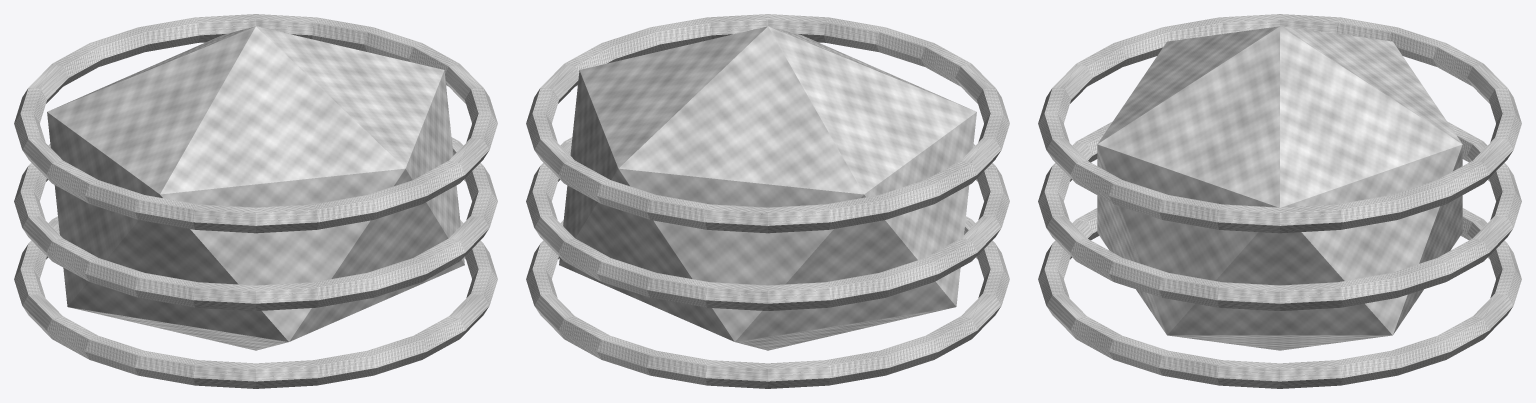
File: item-aluminum-scrap_variant_c.glb
3 renders of one model, left to right at view 1: azimuth 30°, elevation 25°; view 2: azimuth 150°, elevation 25°; view 3: azimuth 270°, elevation 25°, orthographic.
Parts seen in each view (by area): view 1: Material chunk.002, Variant collar.002, Variant collar.001, Variant collar; view 2: Material chunk.002, Variant collar.002, Variant collar.001, Variant collar; view 3: Material chunk.002, Variant collar.002, Variant collar.001, Variant collar.
Boxes of the visible parts, <box> form: Material chunk.002: <box>47,26,464,350</box>; Variant collar.002: <box>14,14,497,233</box>; Variant collar.001: <box>14,137,497,310</box>; Variant collar: <box>14,216,497,388</box>; Material chunk.002: <box>559,26,976,350</box>; Variant collar.002: <box>526,14,1009,233</box>; Variant collar.001: <box>526,137,1009,310</box>; Variant collar: <box>526,216,1009,388</box>; Material chunk.002: <box>1097,26,1462,350</box>; Variant collar.002: <box>1038,14,1521,233</box>; Variant collar.001: <box>1038,121,1521,310</box>; Variant collar: <box>1038,208,1521,388</box>.
Size of what is drawn, in the model's own units: 0.676 by 0.5 by 0.676.
Materials: 2 (2 with a texture image).
